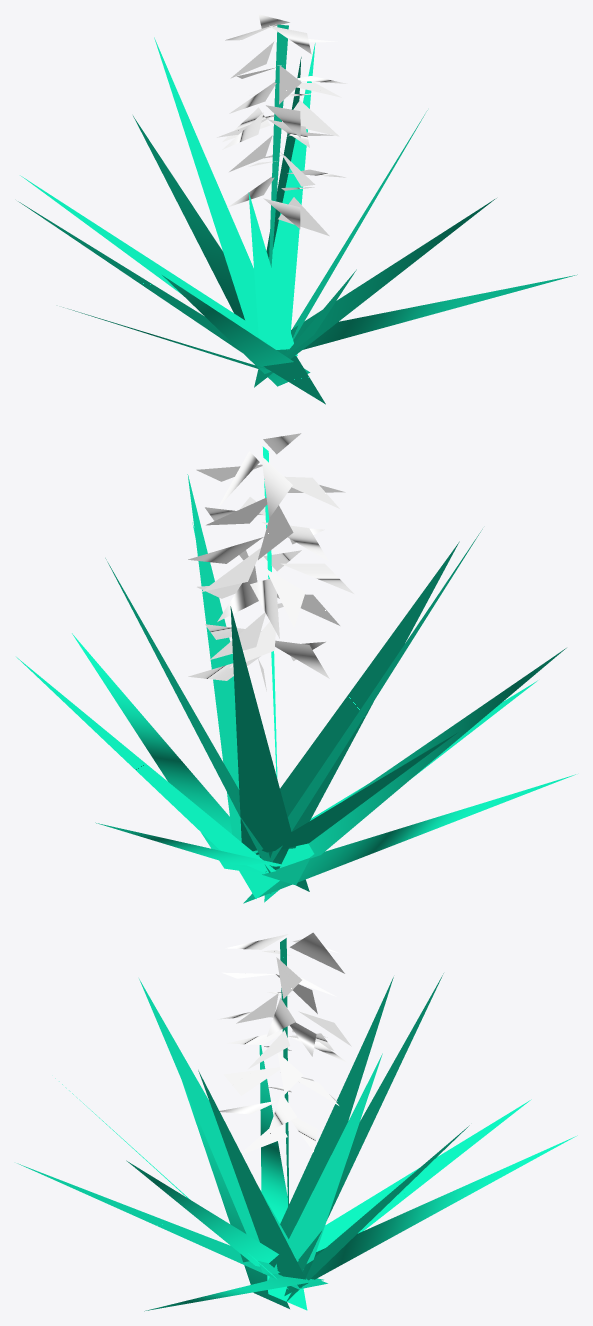
Rendered from Yucca_LOD3.obj.
3 views of the same model, one above another, from view 1: azimuth 30°, elevation 25°; view 2: azimuth 150°, elevation 25°; view 3: azimuth 270°, elevation 25° (orthographic). The views are drawn at different scales.
Visible parts, largest first — view 1: Yucca_LOD3; view 2: Yucca_LOD3; view 3: Yucca_LOD3.
Boxes of the visible parts, bbox=[...] form: Yucca_LOD3: bbox=[18, 14, 577, 404]; Yucca_LOD3: bbox=[16, 433, 575, 903]; Yucca_LOD3: bbox=[17, 932, 577, 1311].
Bounding box in the file's own units: 179 × 134 × 183.
